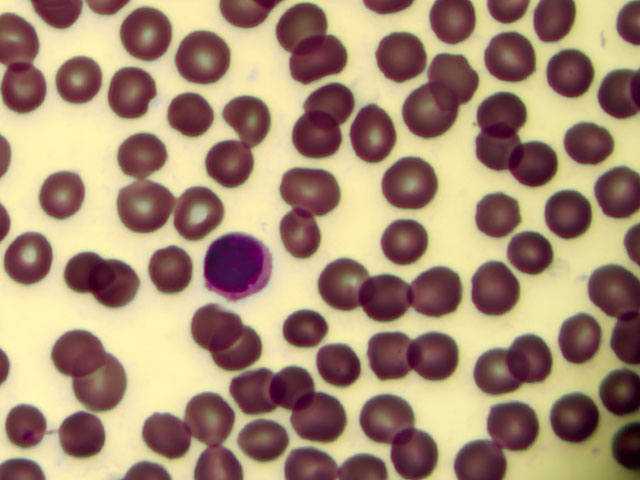RBC: (114, 4, 170, 58), (173, 29, 229, 83), (108, 64, 164, 118), (161, 85, 217, 139), (115, 124, 171, 178), (114, 175, 170, 229), (165, 181, 221, 235), (196, 139, 252, 193), (217, 92, 273, 146), (282, 109, 338, 163), (297, 82, 353, 136), (294, 35, 350, 89), (276, 1, 332, 55), (337, 94, 393, 148), (286, 157, 342, 211), (279, 202, 335, 256), (41, 170, 97, 224), (6, 230, 62, 284), (52, 250, 108, 304), (92, 260, 148, 314), (140, 244, 196, 298), (50, 320, 106, 374), (76, 352, 132, 406), (58, 405, 114, 459), (2, 406, 58, 460), (136, 408, 192, 462), (176, 392, 232, 446), (211, 325, 267, 379), (183, 296, 239, 350), (227, 357, 283, 411), (272, 356, 328, 410), (235, 411, 291, 465), (288, 384, 344, 438), (315, 339, 371, 393), (279, 301, 335, 355), (318, 257, 374, 311), (354, 271, 410, 325), (401, 265, 457, 319), (378, 212, 434, 266), (383, 158, 439, 212), (404, 86, 460, 140), (428, 52, 484, 106), (374, 31, 430, 85), (432, 1, 488, 55), (476, 26, 532, 80), (539, 44, 595, 98), (505, 133, 561, 187), (562, 117, 618, 171), (464, 123, 520, 177), (472, 91, 528, 145), (469, 187, 525, 241), (503, 220, 559, 274), (539, 186, 595, 240), (584, 165, 640, 219), (584, 255, 640, 309), (556, 311, 612, 365), (507, 330, 563, 384), (478, 345, 534, 399), (469, 263, 525, 317), (411, 331, 467, 385), (373, 322, 429, 376), (363, 390, 419, 444), (384, 422, 440, 476), (457, 426, 513, 480), (490, 401, 546, 455), (546, 391, 602, 445), (584, 364, 640, 418), (56, 54, 104, 109), (1, 61, 49, 116), (1, 12, 39, 62)
WBC: (202, 230, 270, 298)
